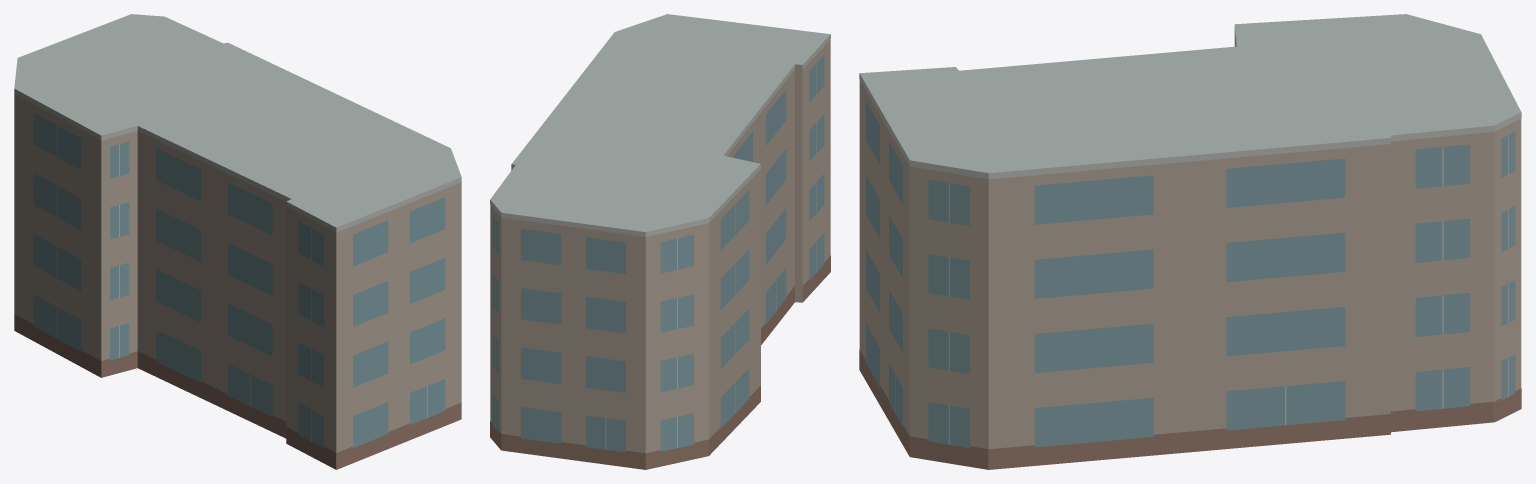
Rendered from survey-upis-32774506.glb.
The picture shows the model from 3 angles, left to right: view 1: azimuth 30°, elevation 25°; view 2: azimuth 150°, elevation 25°; view 3: azimuth 270°, elevation 25°; orthographic projection. The views are drawn at different scales.
Visible parts, largest first — view 1: survey-upis-32774506.tmp; view 2: survey-upis-32774506.tmp; view 3: survey-upis-32774506.tmp.
Part boxes in pixels (x1,y1,x2,y2): survey-upis-32774506.tmp: (14,14,461,469); survey-upis-32774506.tmp: (490,14,830,469); survey-upis-32774506.tmp: (859,14,1521,469).
Bounding box in the file's own units: 13.71 × 11.9 × 24.08.
